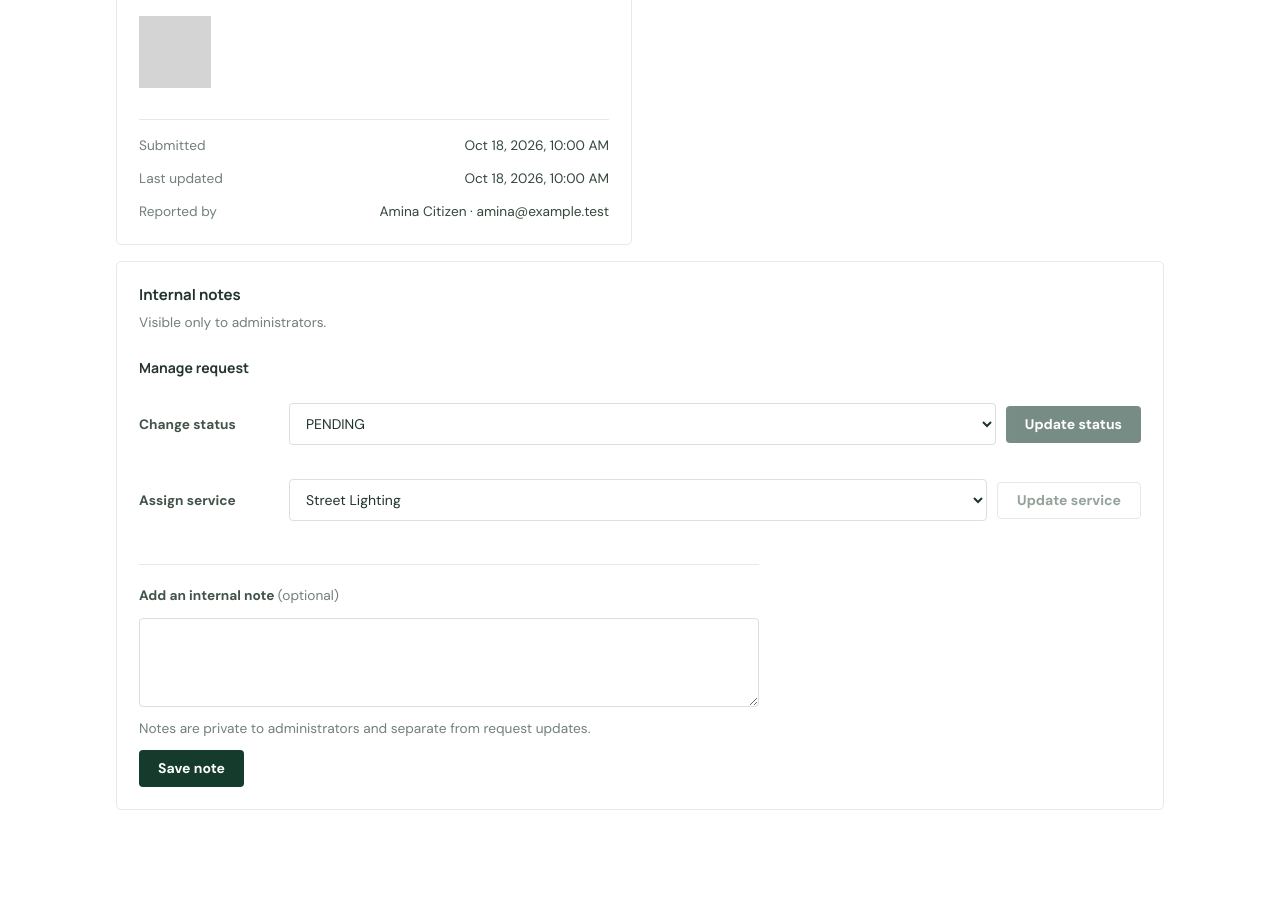
it: administrator request controls › only reports an empty-note error after Save note is explicitly clicked
The image size is (1280, 900).
(page scrolled)
Click the button "Save note": (192, 768) [139,750,244,787]
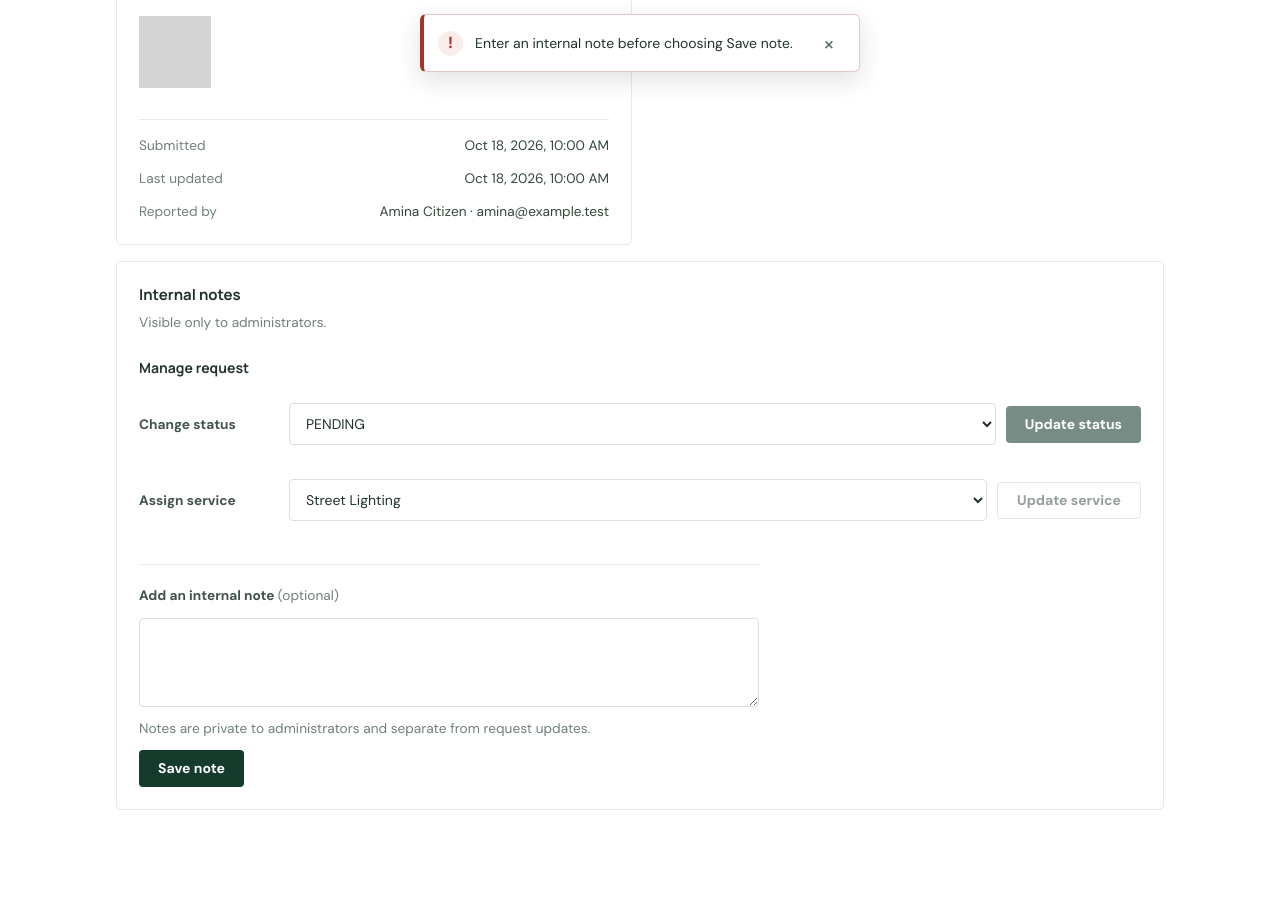
Expected: the message shows "Enter an internal note before choosing Save note.", [475,34,793,52]
